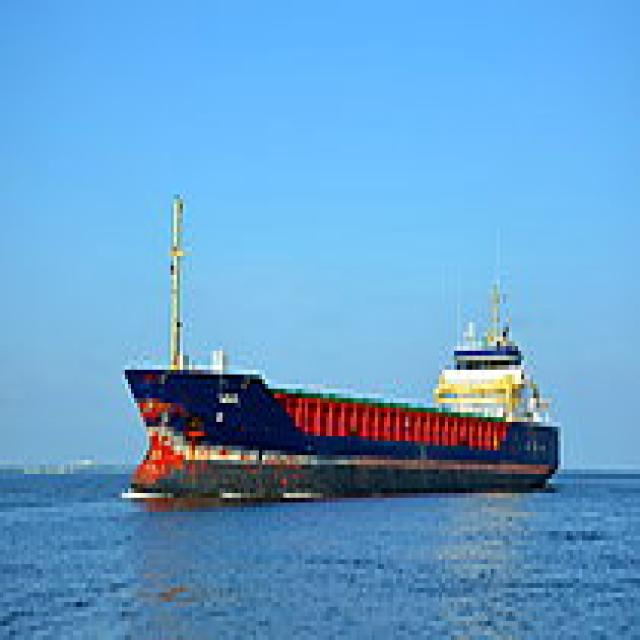Cargo: (116, 185, 561, 498)
